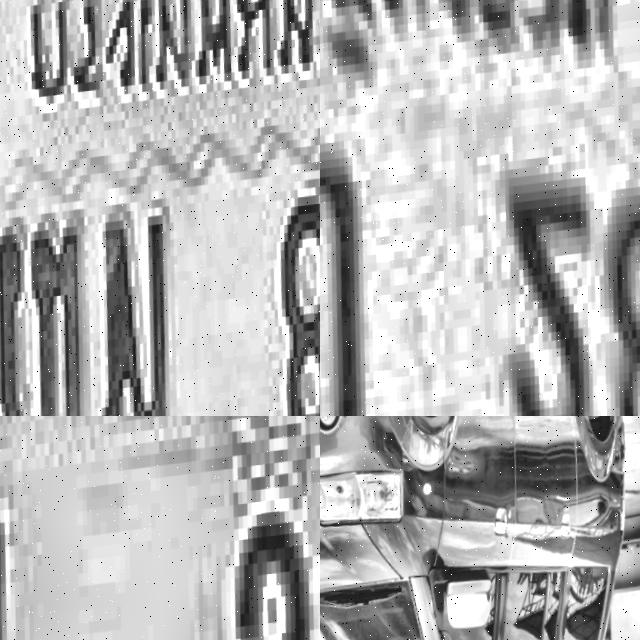license-plate: (0, 0, 320, 416), (320, 0, 640, 416), (0, 416, 320, 640)
